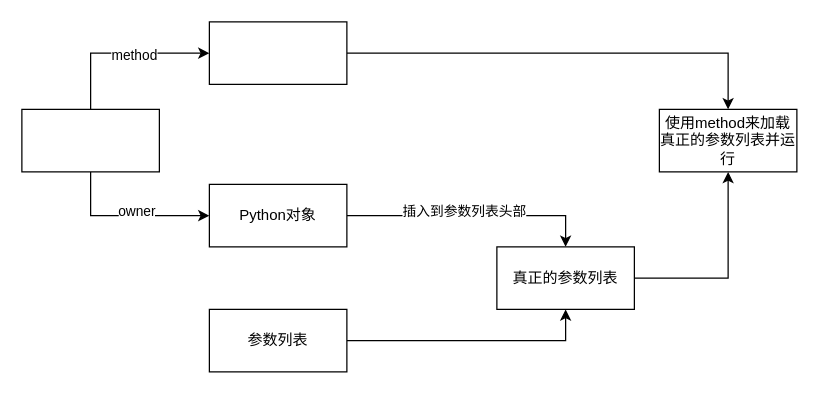
Image size: 819x394. Some labels were removed from this diagram. Here are the shapes that lost their labels. From the top down, the box of each, then its label:
(208, 21, 347, 84): 原生函数、Python函数、类构造函数
(21, 108, 159, 172): 方法
